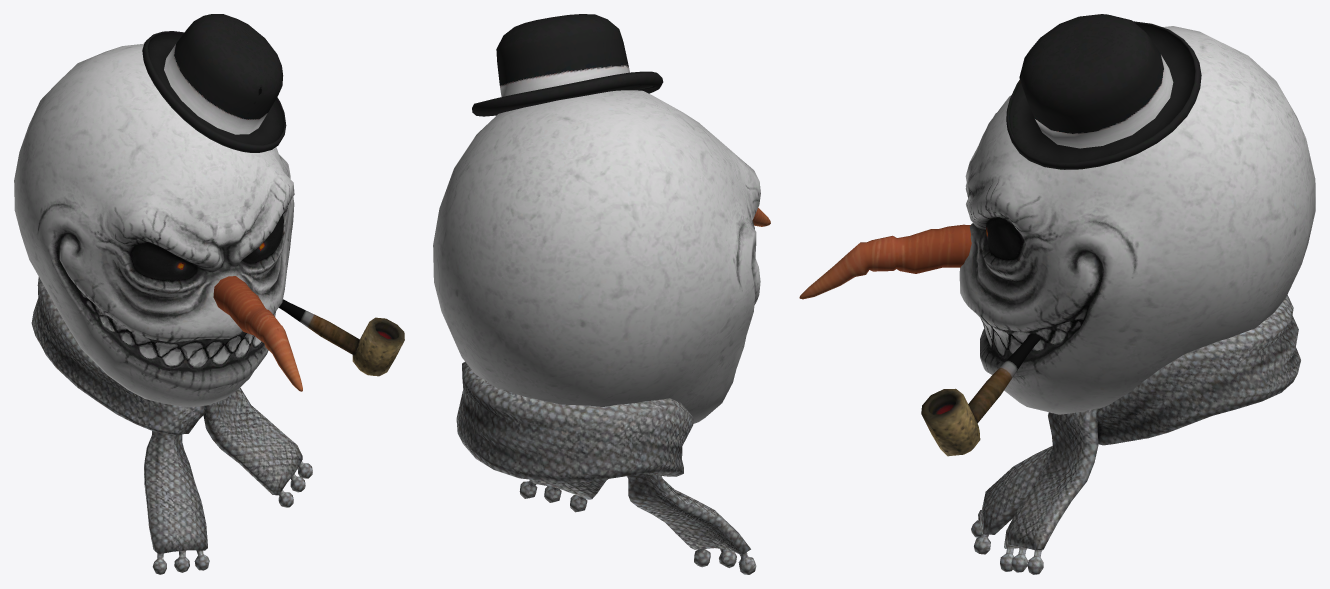
Rendered from SurvivorMale_Head_Mask_Snowman_LOD0.glb.
The picture shows the model from 3 angles, left to right: view 1: azimuth 30°, elevation 25°; view 2: azimuth 150°, elevation 25°; view 3: azimuth 270°, elevation 25°; orthographic projection. The views are drawn at different scales.
Visible parts, largest first — view 1: Hoodie; view 2: Hoodie; view 3: Hoodie.
Part boxes in pixels (<box>): Hoodie: <box>14,14,404,574</box>; Hoodie: <box>433,14,770,574</box>; Hoodie: <box>799,14,1315,574</box>.
Bounding box in the file's own units: 0.2657 × 0.4404 × 0.3611.
1 material, 1 textured.
